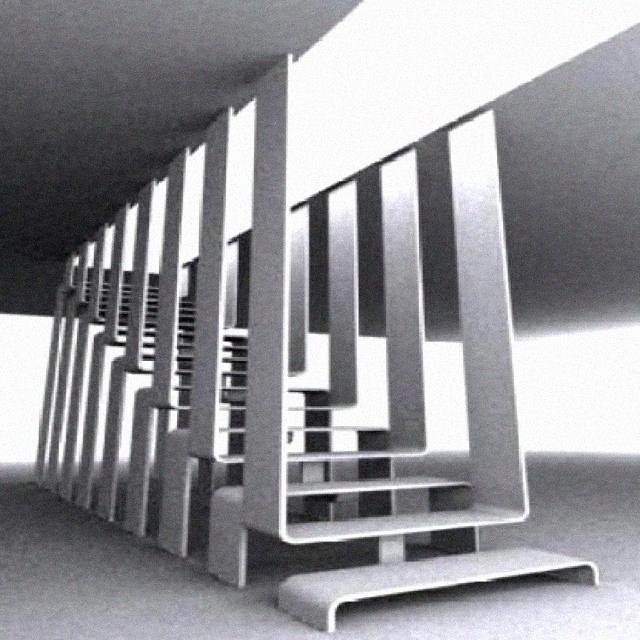stair: (9, 256, 608, 629)
